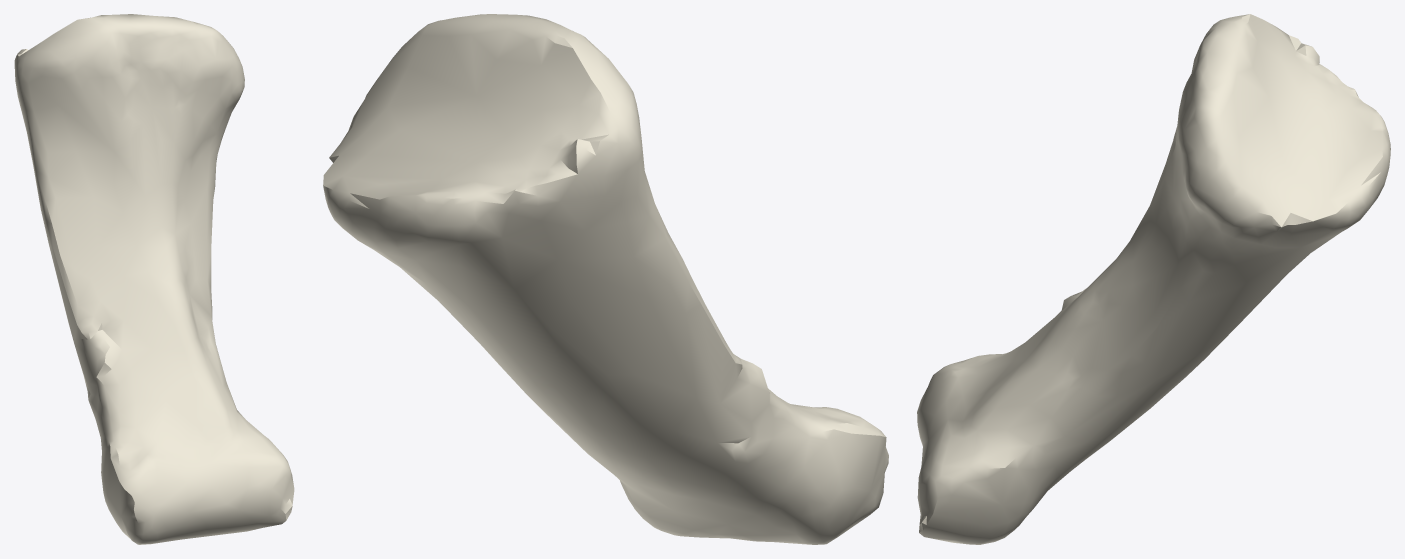
File: fma23944_mm1899m.glb
3 views of the same model, side by side, from view 1: azimuth 30°, elevation 25°; view 2: azimuth 150°, elevation 25°; view 3: azimuth 270°, elevation 25° (orthographic). The views are drawn at different scales.
Visible parts, largest first — view 1: FMA23944_MM1899M; view 2: FMA23944_MM1899M; view 3: FMA23944_MM1899M.
Part boxes in pixels (bbox=[...]): FMA23944_MM1899M: bbox=[14, 14, 294, 544]; FMA23944_MM1899M: bbox=[323, 14, 888, 544]; FMA23944_MM1899M: bbox=[917, 14, 1390, 544].
Bounding box in the file's own units: 0.0117 × 0.0198 × 0.0168.
